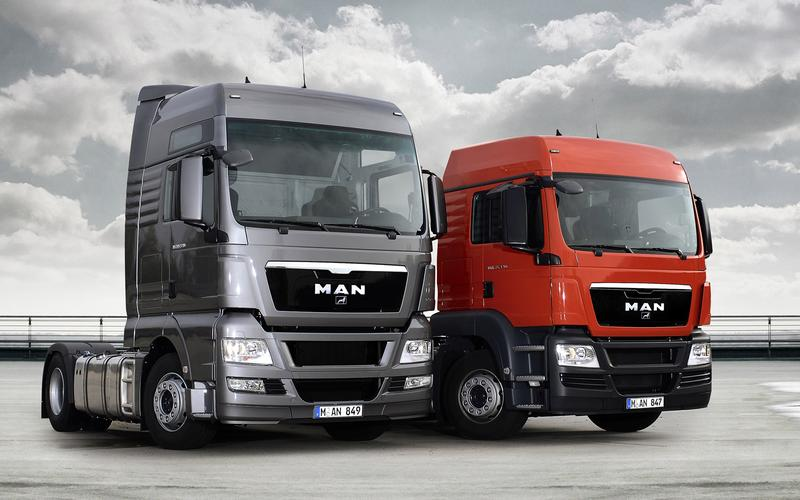卡车: (41, 42, 441, 442), (441, 109, 734, 447)
